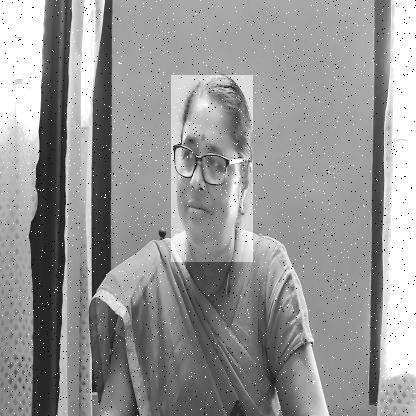Normal: (171, 75, 253, 262)
